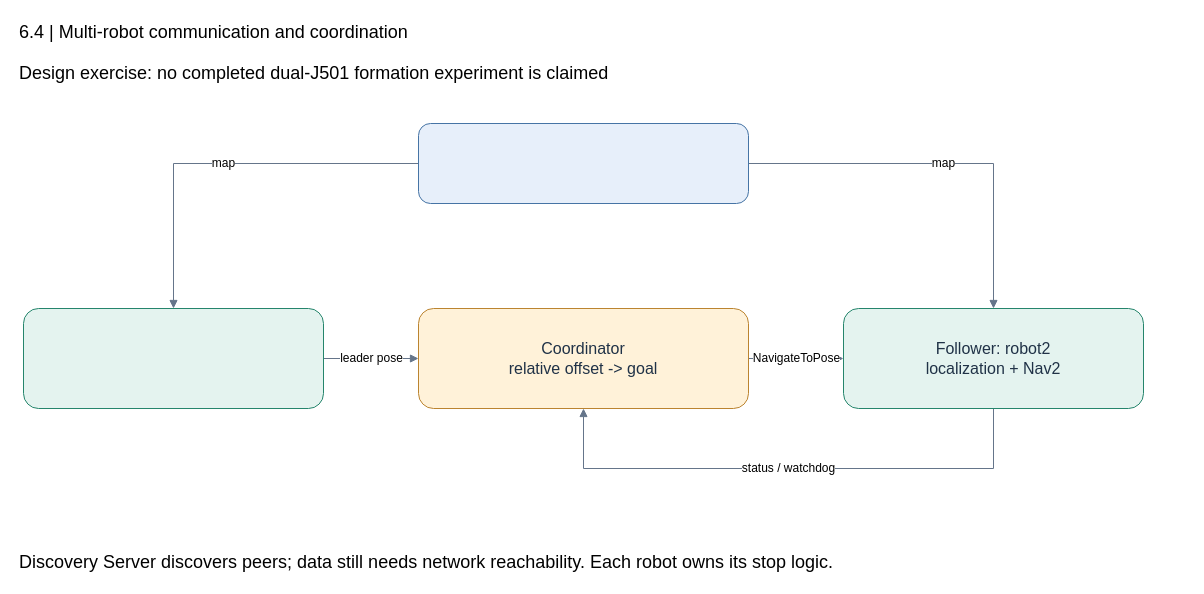
Some shapes in this 1204 by 594 pixel diagram are drawn without their labels. The box of each missing label's shape, as (x1, y1, x2, y2) in pixels:
Leader: robot1 localization + Nav2: (22, 308, 324, 408)
Shared map / mission consistent origin + frames: (418, 122, 748, 204)
